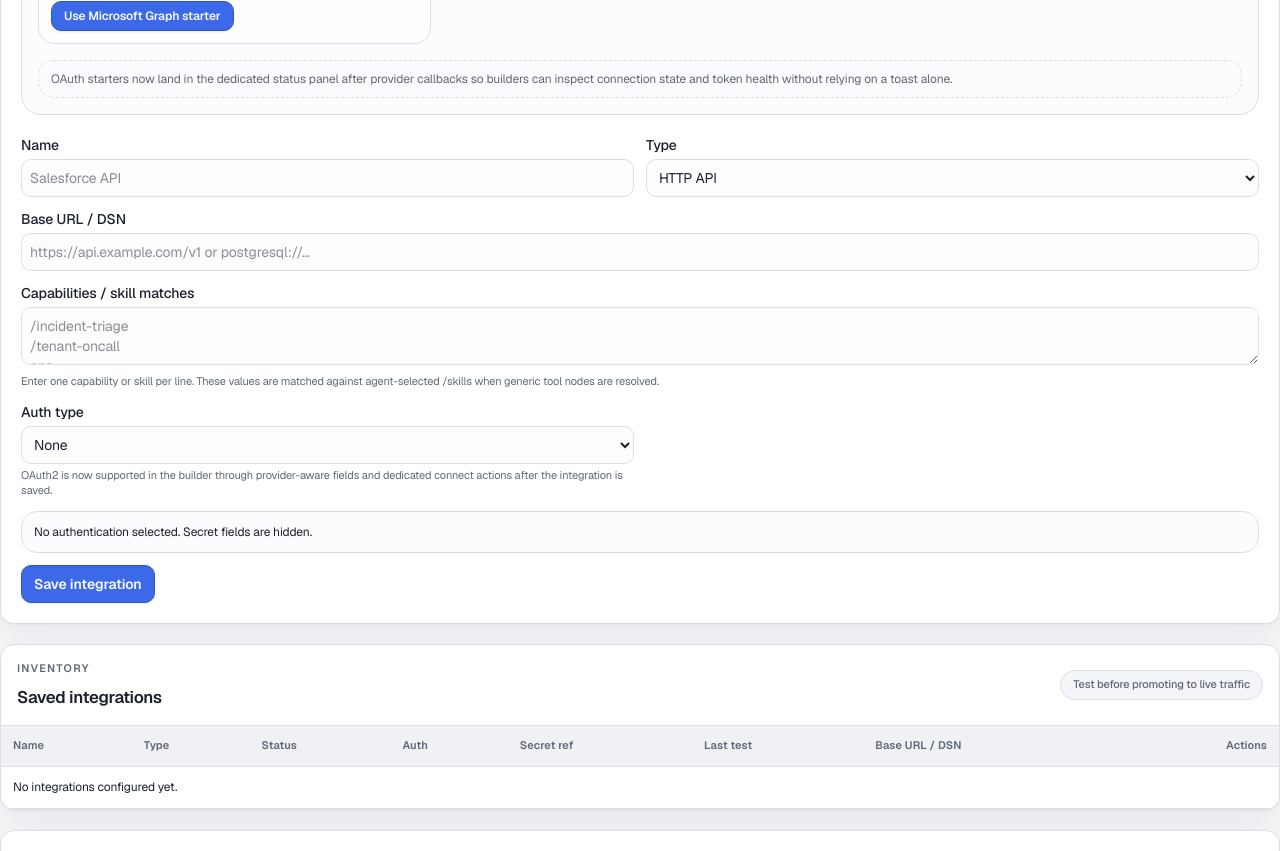
Scenario: IntegrationsManager › shows OAuth2 as a supported auth type with provider-aware fields
This screenshot has width=1280, height=851.
(page scrolled)
Expected: the text "No integrations configured yet." is shown, [1,766,1279,808]
Expected: the text "OAuth2 is now supported in the builder" is shown, [21,468,623,497]
Select "OAuth2" in the dropdown labelled "Auth type" at (328, 445), box [21,426,634,464]
(page scrolled)
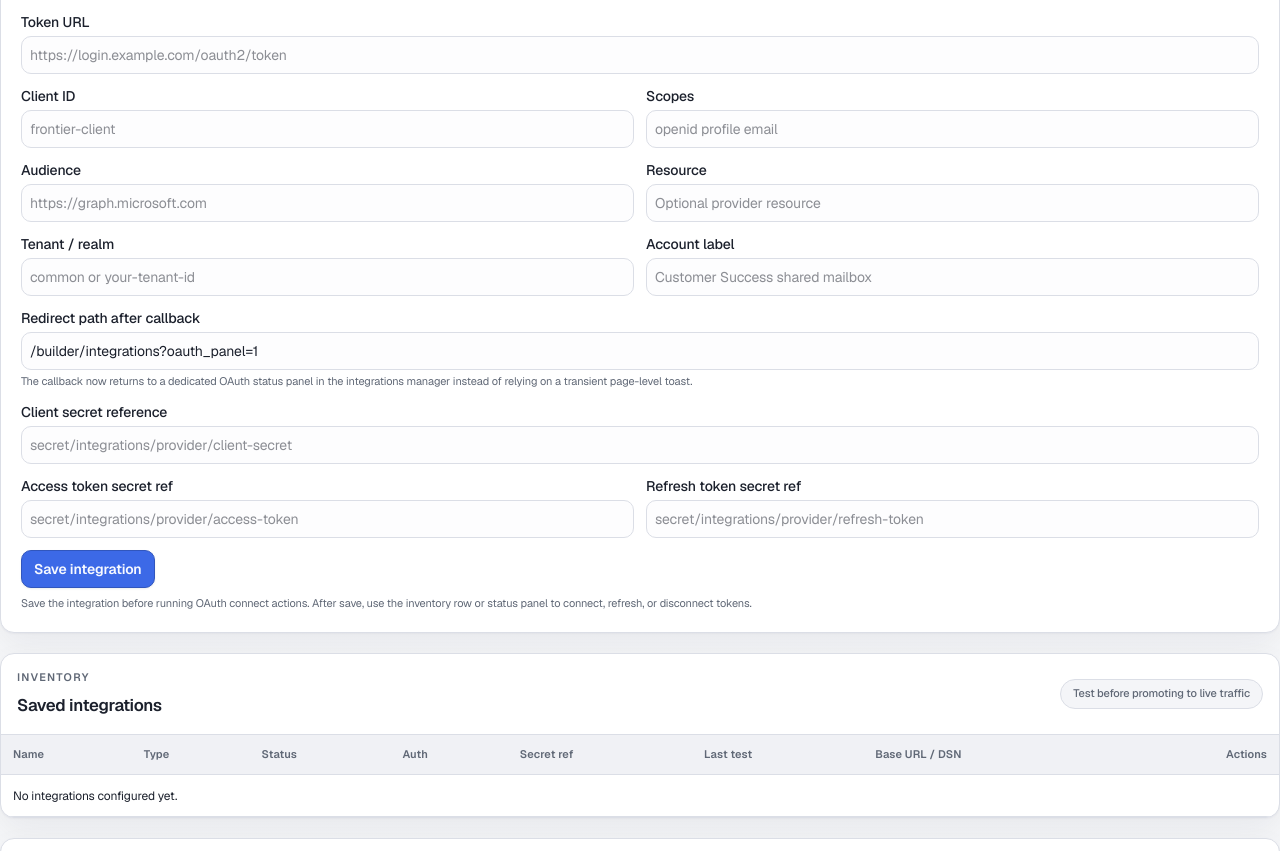
Now the field labelled "Token URL" is shown, box [21,36,1259,74]
Now the field labelled "Client secret reference" is shown, box [21,426,1259,464]
